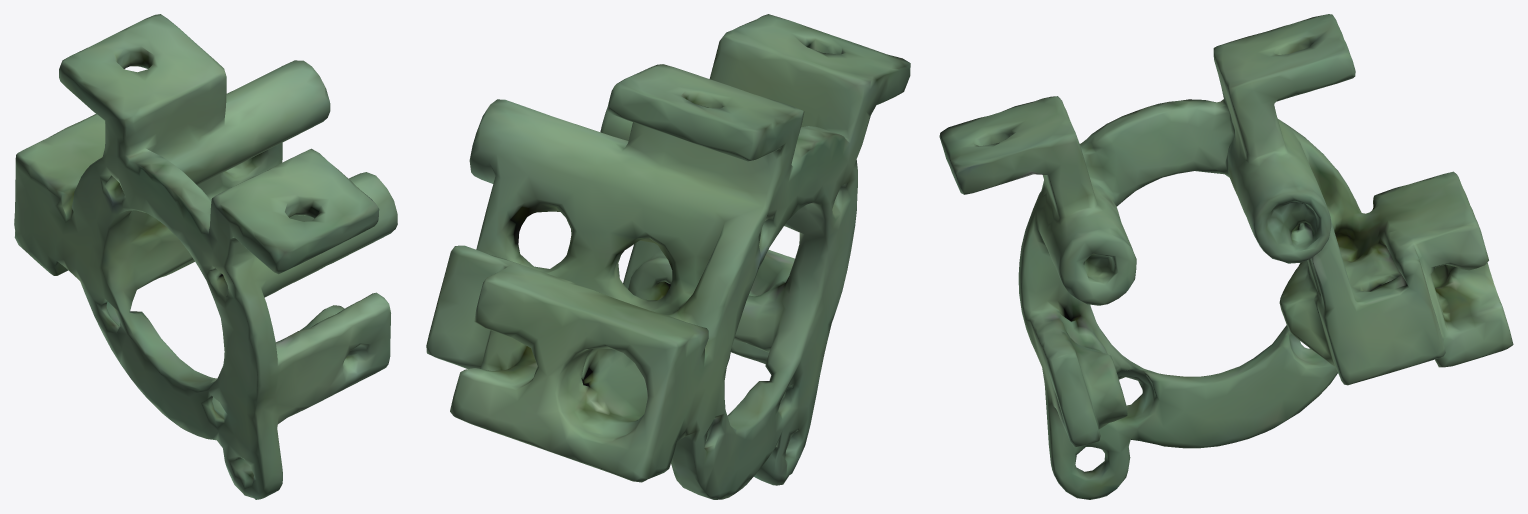
The model's file is textured_simplified.obj.
The picture shows the model from 3 angles, left to right: view 1: azimuth 30°, elevation 25°; view 2: azimuth 150°, elevation 25°; view 3: azimuth 270°, elevation 25°; orthographic projection. The views are drawn at different scales.
Bounding box in the file's own units: 0.054 × 0.085 × 0.0978.
